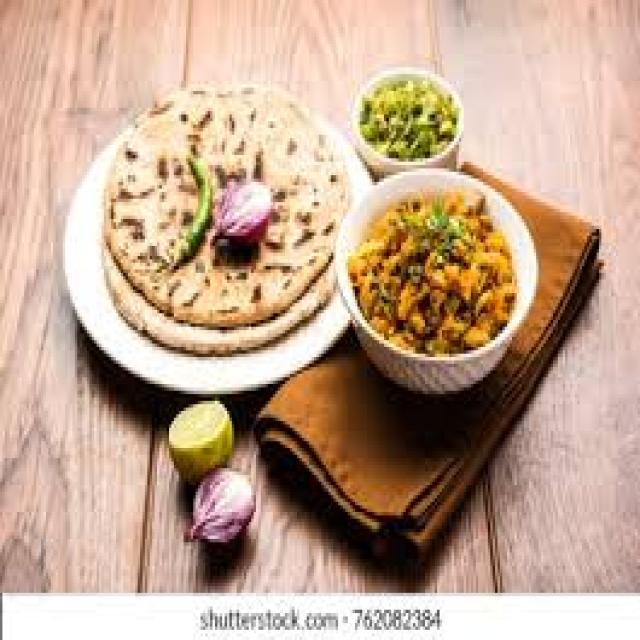ROTI: (101, 84, 348, 320)
